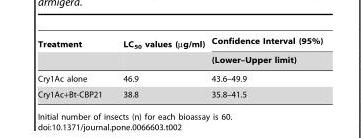table: (36, 36, 322, 99)
table column: (207, 36, 322, 99), (112, 36, 207, 99), (36, 36, 112, 99)
table column header: (36, 36, 322, 69)
table row: (36, 52, 322, 69), (36, 36, 322, 52), (36, 69, 322, 85), (36, 85, 322, 99)
table spanning cell: (207, 36, 322, 69), (112, 36, 207, 69), (36, 36, 112, 69)
